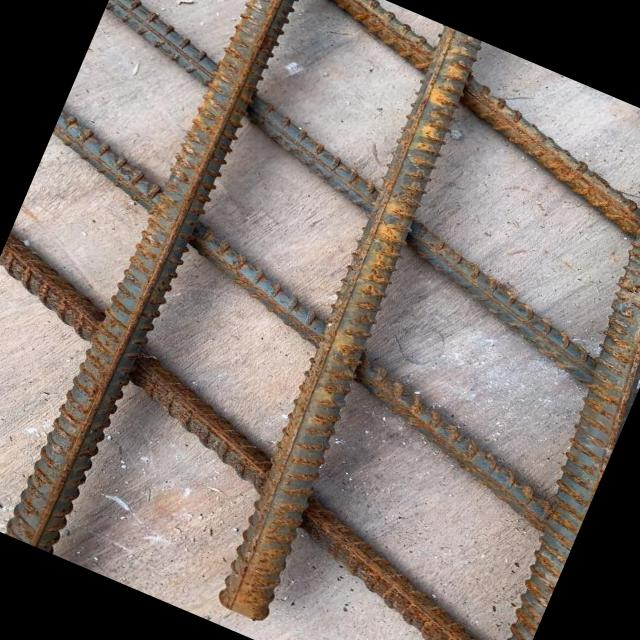ribbed bar: (0, 104, 619, 534), (0, 228, 586, 640), (41, 0, 640, 393), (192, 24, 516, 632), (0, 0, 312, 558), (226, 0, 640, 285), (420, 121, 640, 640)
